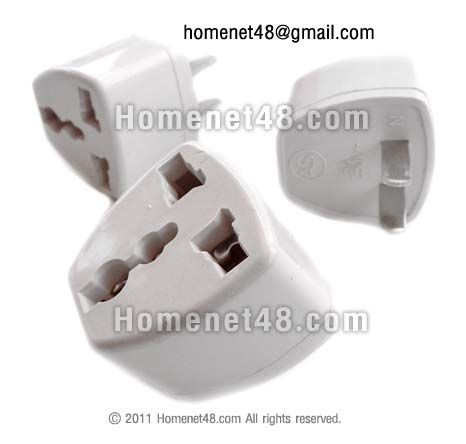Three_eye_plug: (59, 135, 337, 406), (23, 30, 239, 193), (270, 50, 444, 241)
